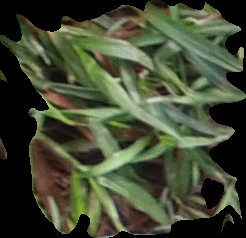grass: (1, 1, 244, 236)
